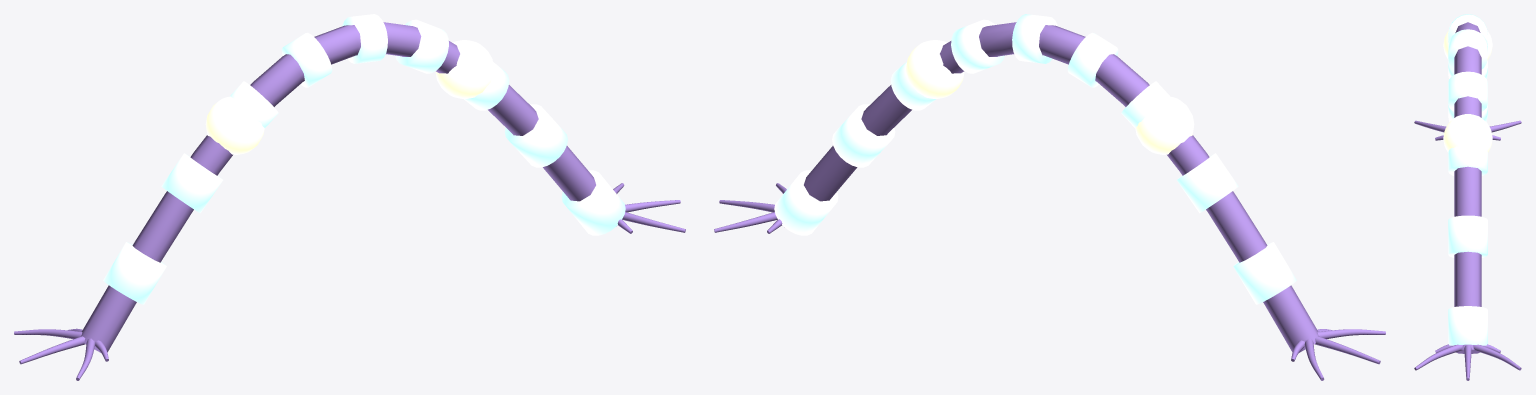
The model's file is E33_Axon_Arch.glb.
3 views of the same model, side by side, from view 1: azimuth 30°, elevation 25°; view 2: azimuth 150°, elevation 25°; view 3: azimuth 270°, elevation 25° (orthographic). The views are drawn at different scales.
Visible parts, largest first — view 1: E33_Axon_Arch_Mesh; view 2: E33_Axon_Arch_Mesh; view 3: E33_Axon_Arch_Mesh.
Part boxes in pixels (x1,y1,x2,y2): E33_Axon_Arch_Mesh: [14, 14, 685, 380]; E33_Axon_Arch_Mesh: [714, 14, 1385, 380]; E33_Axon_Arch_Mesh: [1414, 14, 1521, 380].
Bounding box in the file's own units: 23.02 × 9.09 × 3.89.
